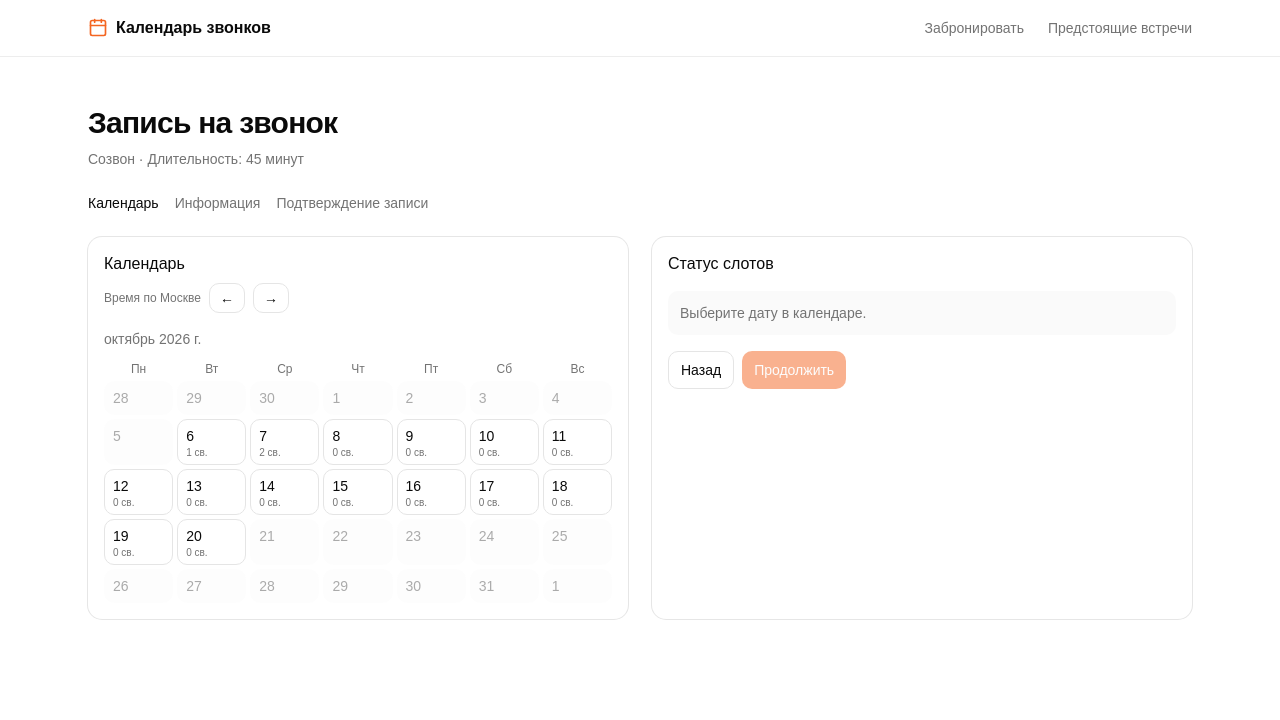
Test case: §5: навигация по месяцам показывает следующий месяц без бейджей
Expected: the text "1 св." is shown, left=186, top=448, right=208, bottom=458
Click the button named "Следующий месяц" at point(271, 298), box left=253, top=283, right=289, bottom=313
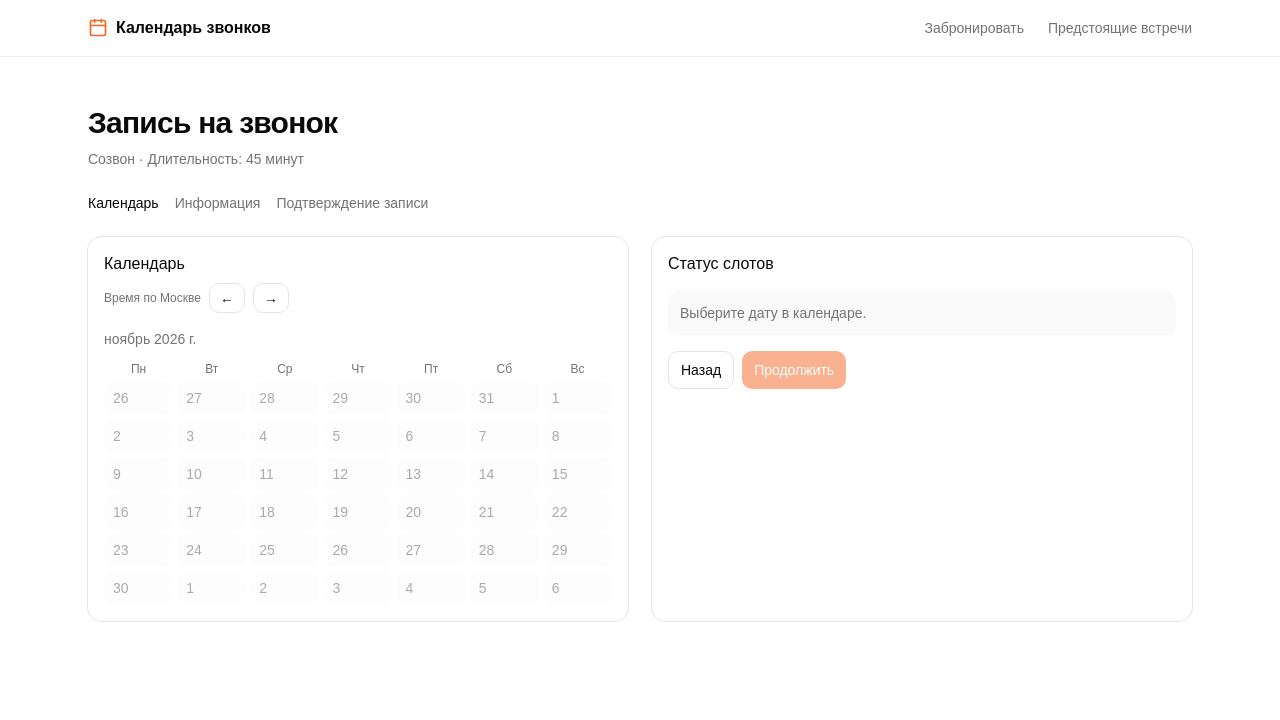
Expected: the text "ноябрь 2026 г." is shown, left=104, top=331, right=196, bottom=347
Expected: the text "октябрь 2026 г." is gone
Expected: the button "св." is gone
